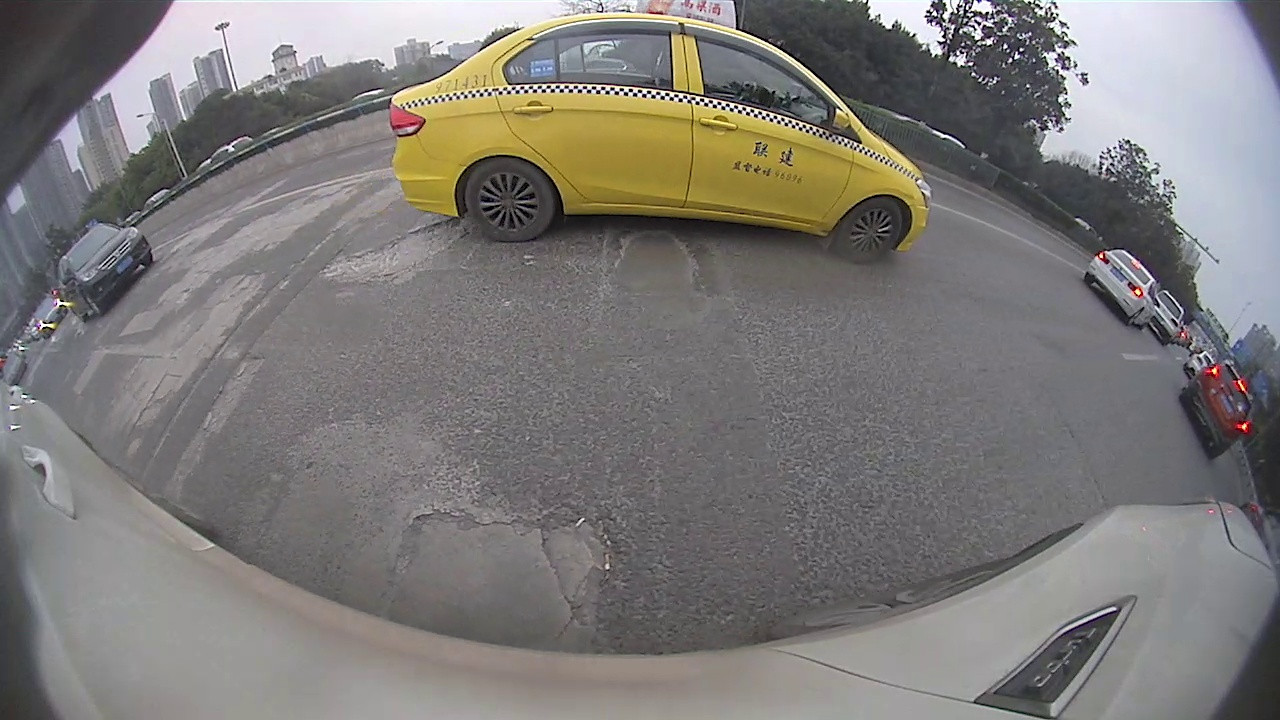car: (389, 1, 930, 264), (56, 222, 150, 321), (1182, 363, 1254, 460), (1084, 249, 1159, 325), (28, 294, 67, 342), (1154, 288, 1182, 345)
front: (837, 198, 906, 265), (83, 289, 106, 320)
rear: (466, 157, 556, 243)
